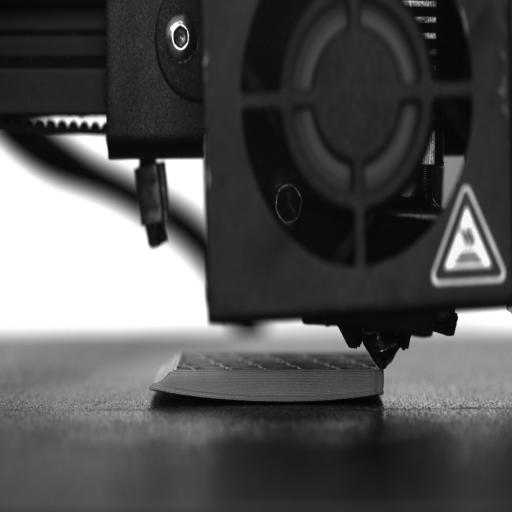warp: (146, 379, 209, 407)
